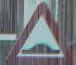Speed Breaker ahead: (2, 2, 65, 59)
